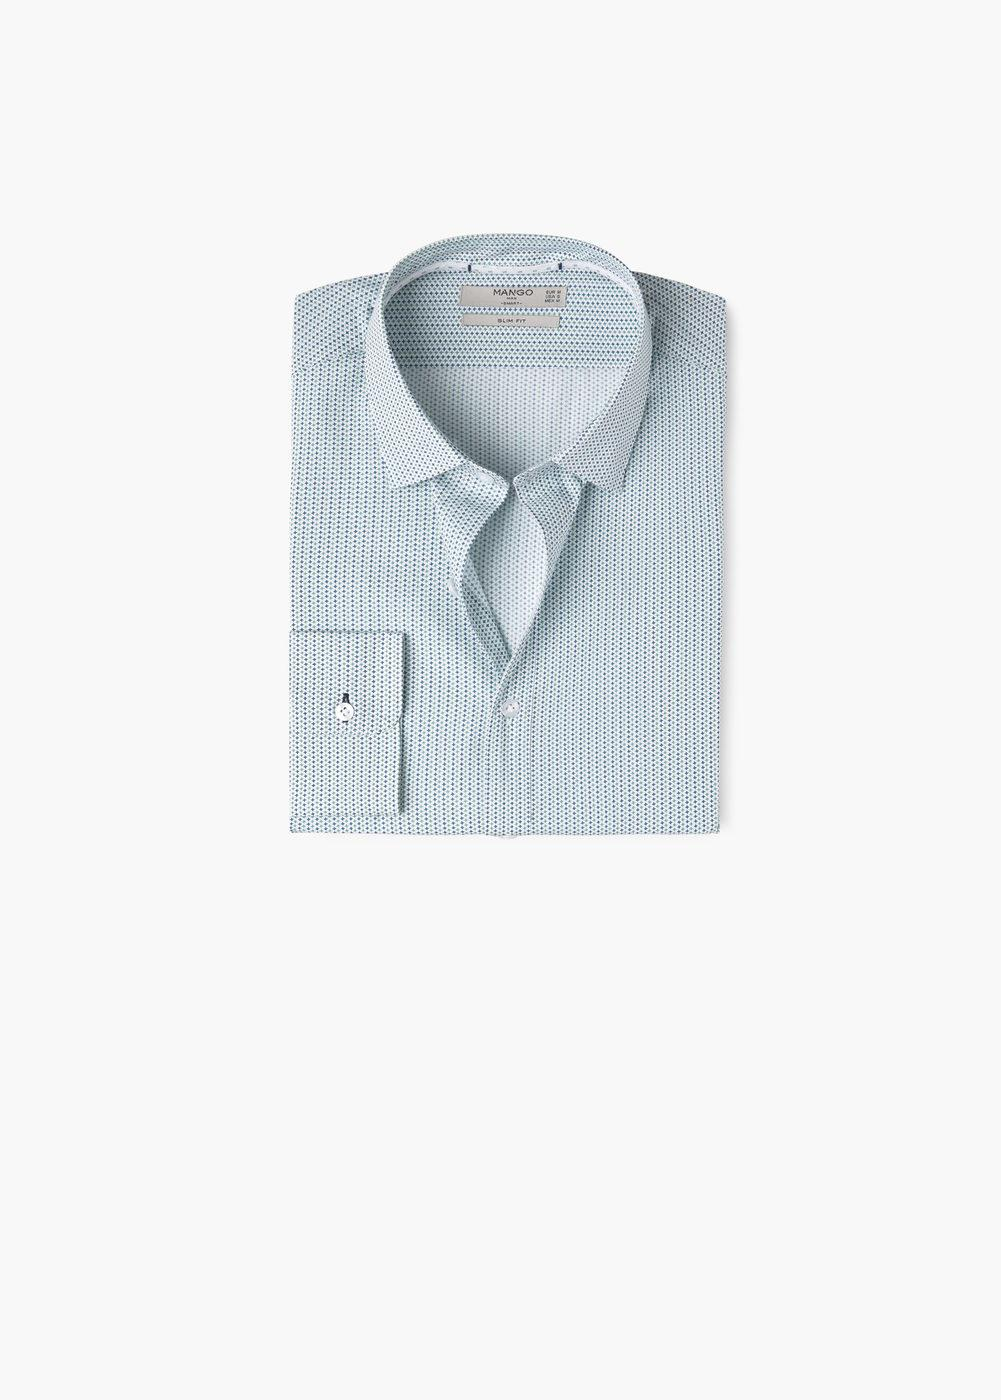teeshirt: (284, 215, 742, 878)
